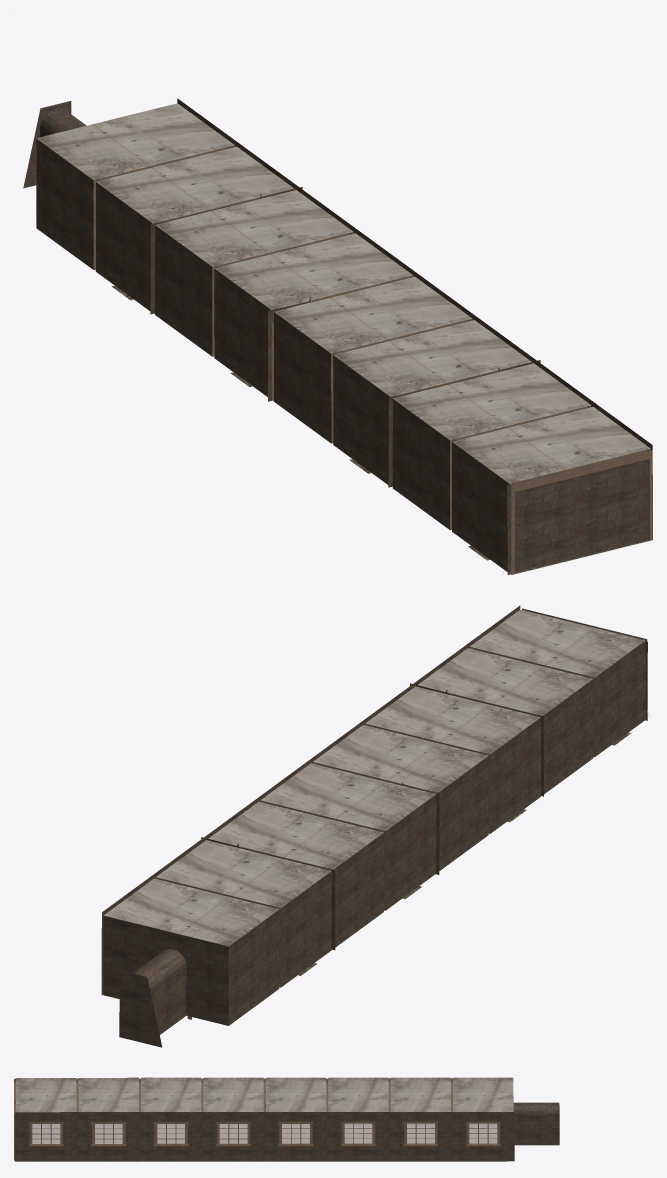
The model's file is castle-v3.glb.
3 renders of one model, top to bottom at view 1: azimuth 30°, elevation 25°; view 2: azimuth 150°, elevation 25°; view 3: azimuth 270°, elevation 25°, orthographic. The views are drawn at different scales.
Visible parts, largest first — view 1: Material2.005, Material2.006, Material2.016, Material2; view 2: Material2.005, Material2.006, Material2, Material2.007; view 3: Material2.006, Material2.005, Material2, Material2.003, Material2.004.
Part boxes in pixels (x1,y1,x2,y2): Material2.005: [36, 103, 650, 483]; Material2.006: [36, 98, 652, 571]; Material2.016: [502, 459, 648, 574]; Material2: [93, 145, 652, 574]; Material2.005: [104, 609, 645, 946]; Material2.006: [101, 605, 645, 1034]; Material2: [156, 608, 647, 988]; Material2.007: [119, 970, 162, 1047]; Material2.006: [15, 1077, 559, 1161]; Material2.005: [16, 1077, 513, 1112]; Material2: [14, 1078, 500, 1160]; Material2.003: [32, 1123, 497, 1143]; Material2.004: [33, 1125, 496, 1142].
Bounding box in the file's own units: 188 × 114 × 1257.
14 materials, 13 textured.
